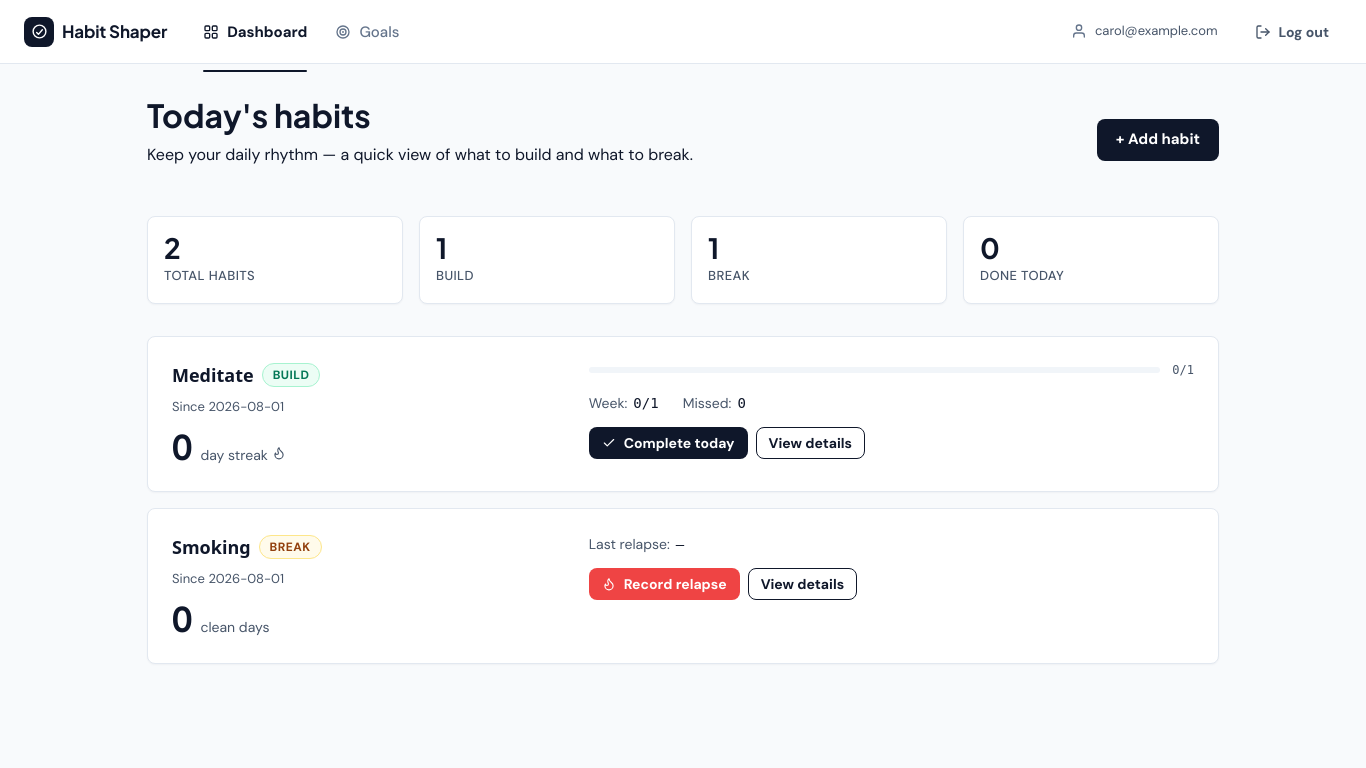
Scenario: Dashboard — add habit modal › closes the modal via the X close button
Check: the heading "Today's habits" is shown, box [147,95,371,135]
Click the button "+ Add habit": (1158, 140) [1097,119,1219,161]
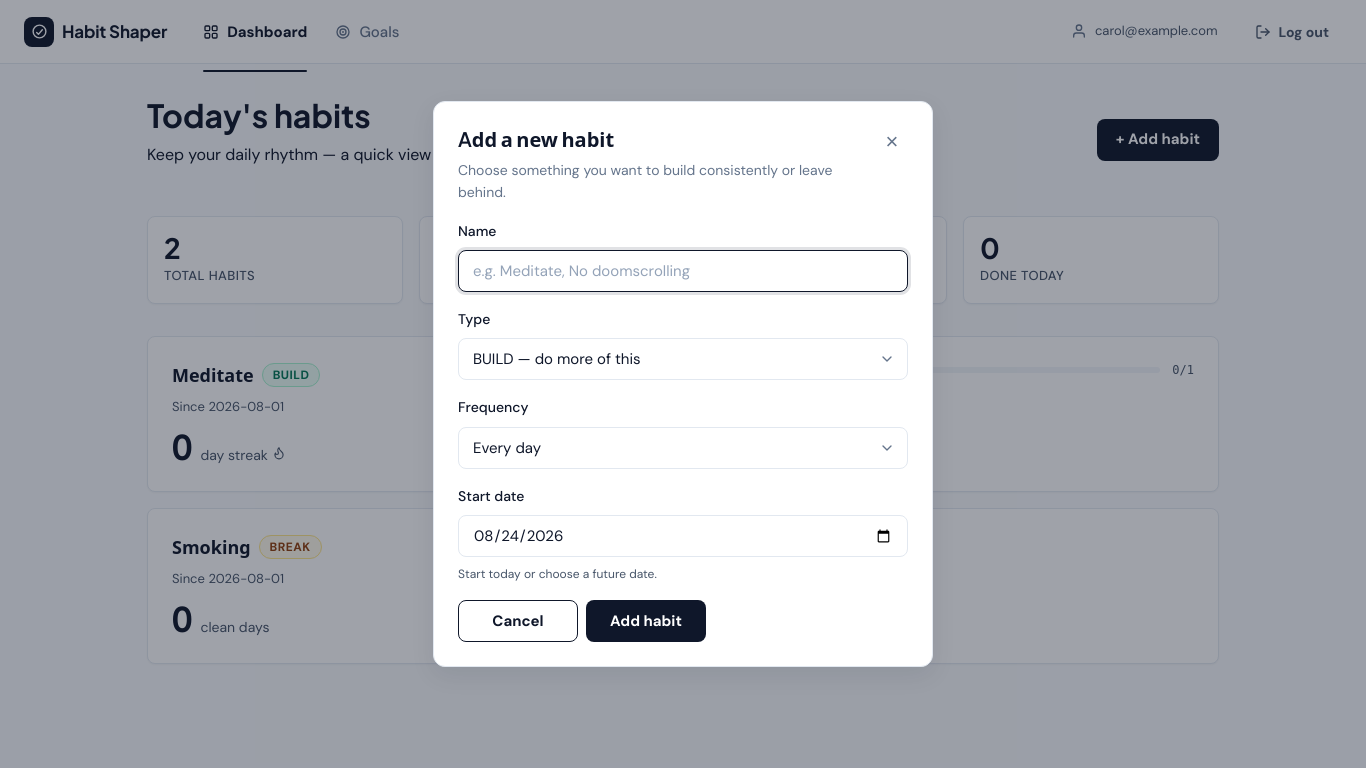
Check: the dialog is shown, box [433,101,933,667]
Click the button named "close dialog": (892, 142) [876,126,908,158]
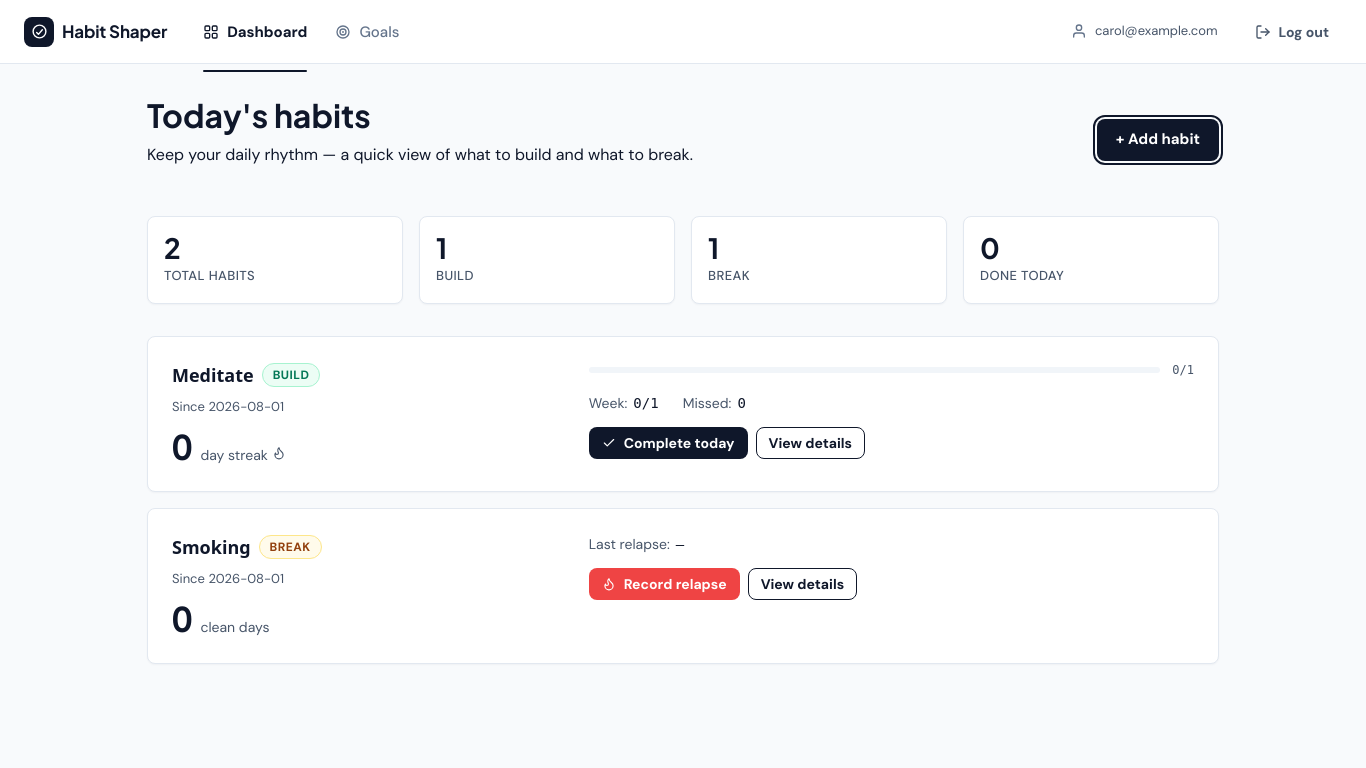
Check: the dialog is gone
